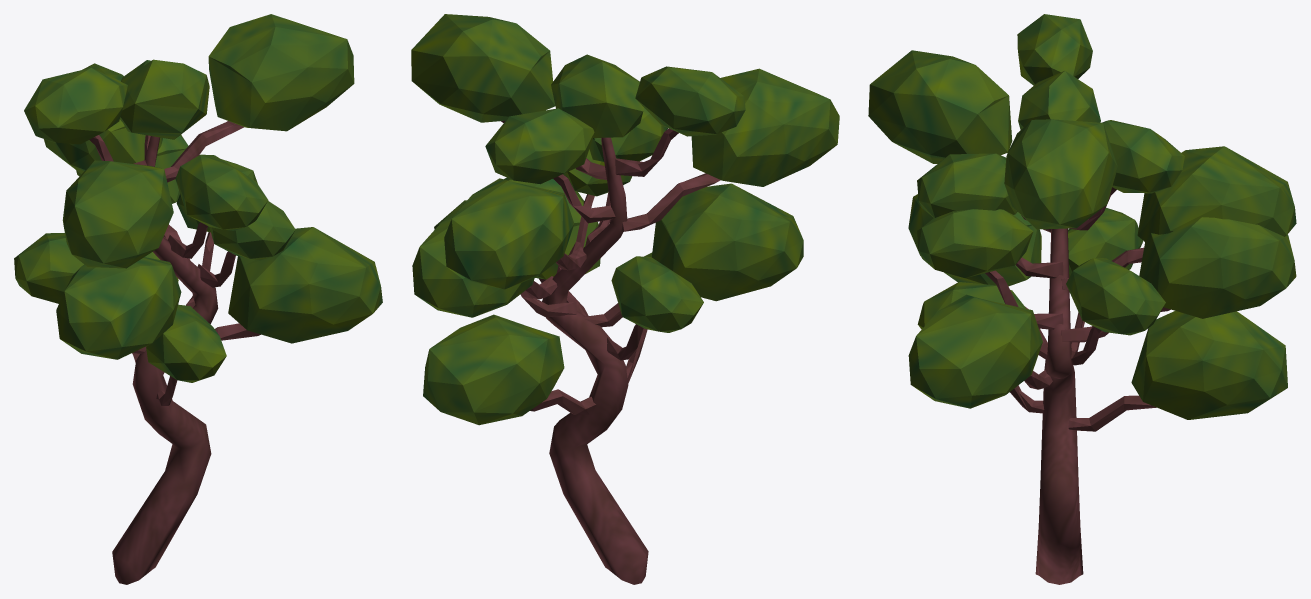
Rendered from tree191.fbx.
The picture shows the model from 3 angles, left to right: view 1: azimuth 30°, elevation 25°; view 2: azimuth 150°, elevation 25°; view 3: azimuth 270°, elevation 25°; orthographic projection. The views are drawn at different scales.
Visible parts, largest first — view 1: BezierCurve; view 2: BezierCurve; view 3: BezierCurve.
Boxes of the visible parts, <box> form: BezierCurve: <box>14,14,382,584</box>; BezierCurve: <box>411,14,839,584</box>; BezierCurve: <box>868,14,1296,584</box>.
Bounding box in the file's own units: 1036 × 1488 × 1075.
